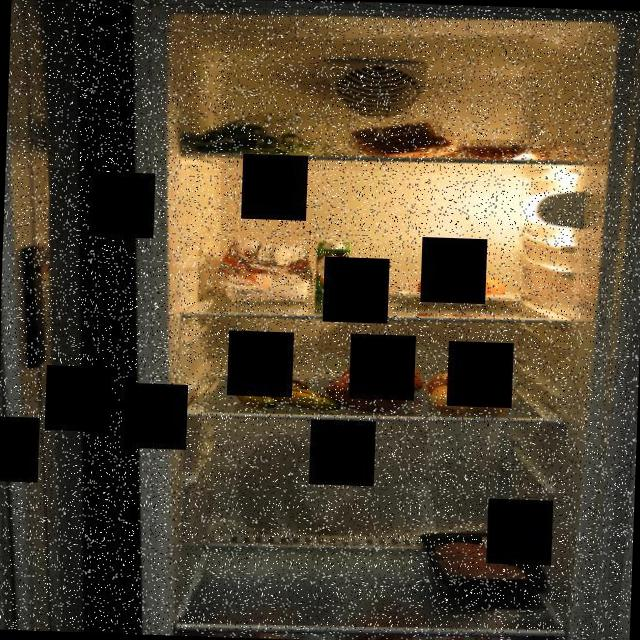Carne pollo: (414, 528, 546, 594)
Gambas/Langostinos: (454, 142, 550, 162)
Huevos: (411, 269, 507, 309)
Patata: (422, 361, 525, 418)
Plátano: (229, 358, 344, 413)
